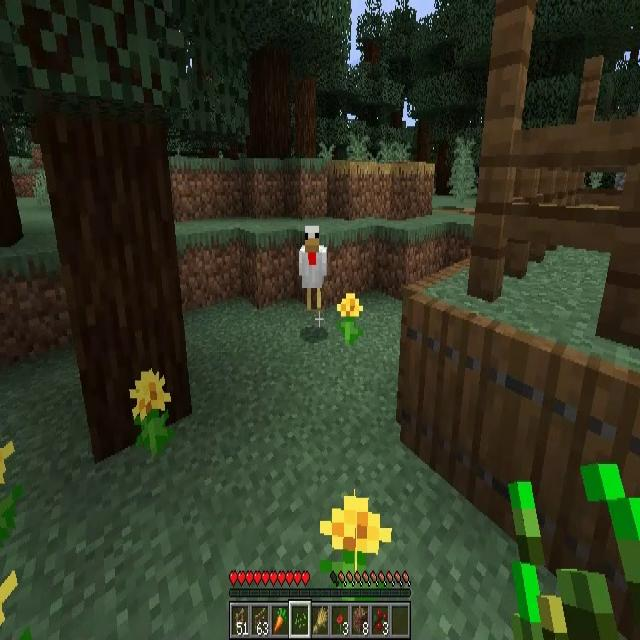duck: (300, 226, 327, 312)
flower: (320, 492, 392, 600), (130, 368, 171, 456), (0, 441, 24, 544), (0, 569, 32, 640), (337, 292, 364, 348)
